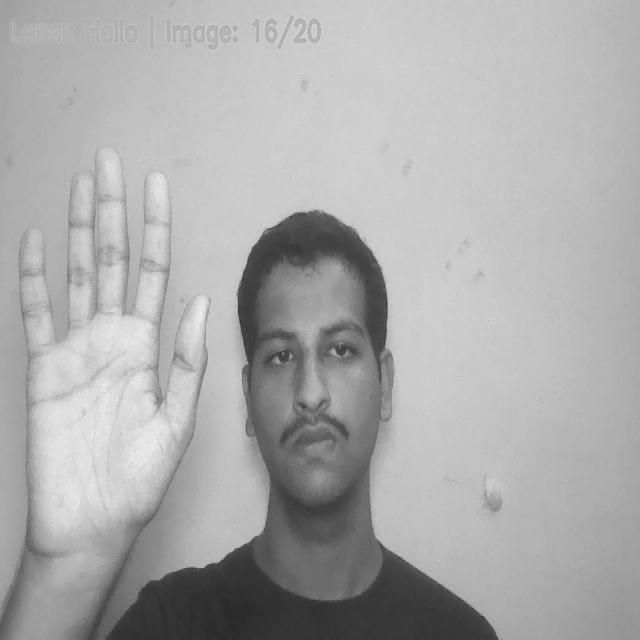Hello: (12, 141, 216, 551)
